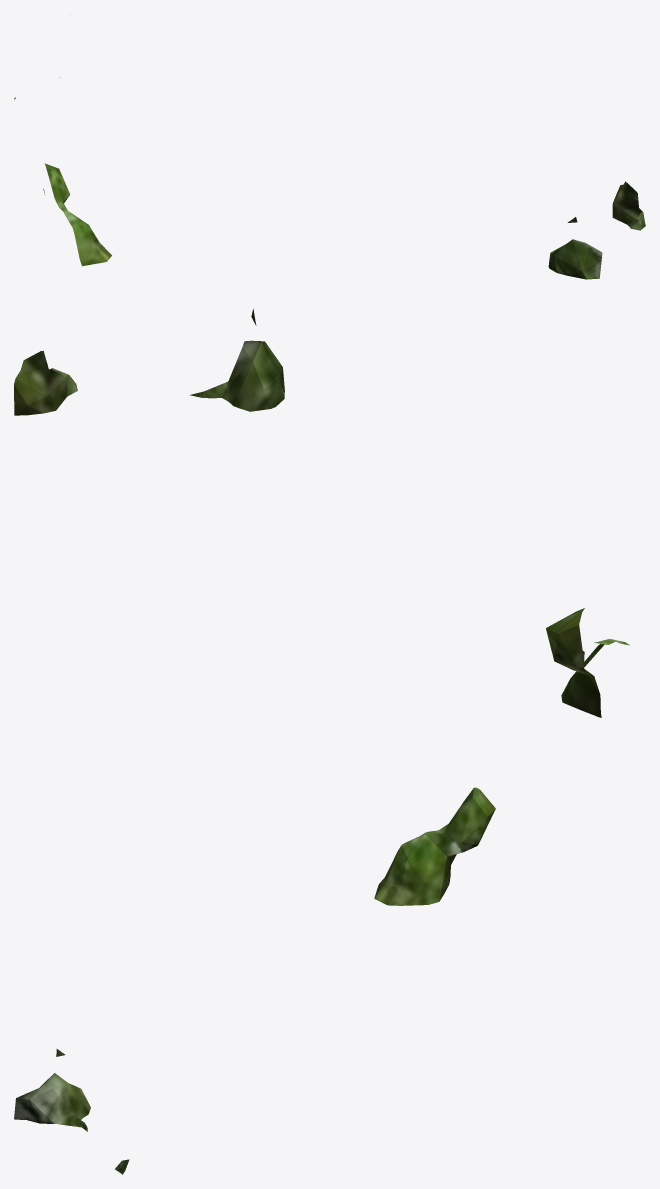
3 views of the same model, one above another, from view 1: azimuth 30°, elevation 25°; view 2: azimuth 150°, elevation 25°; view 3: azimuth 270°, elevation 25° (orthographic). The views are drawn at different scales.
Size of the model in its own units: 1.67 by 0.5274 by 1.54.
Materials: 1 (1 with a texture image).
